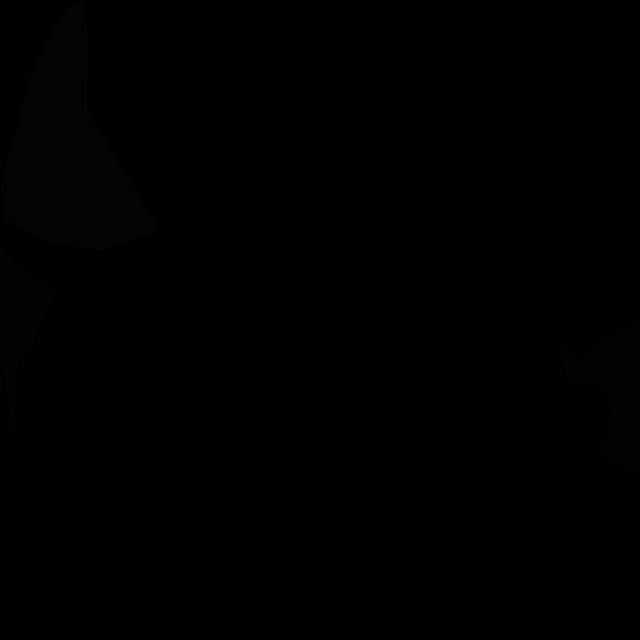cardboard: (562, 324, 640, 473), (0, 246, 54, 429)
